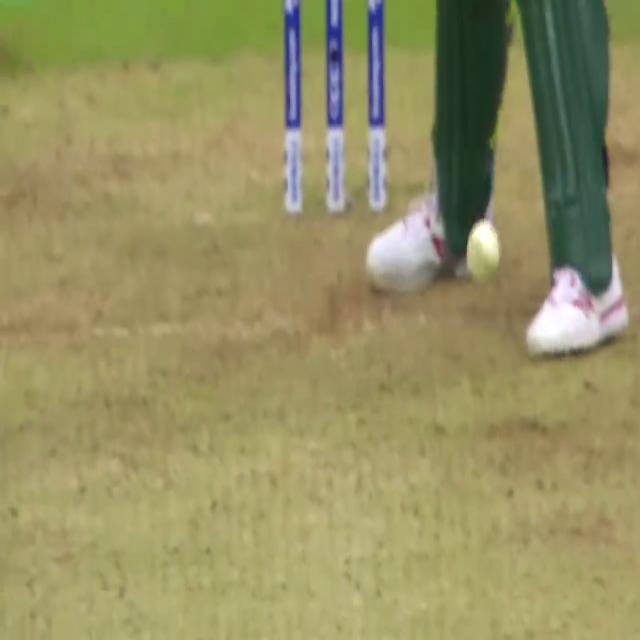ball: (460, 205, 507, 292)
